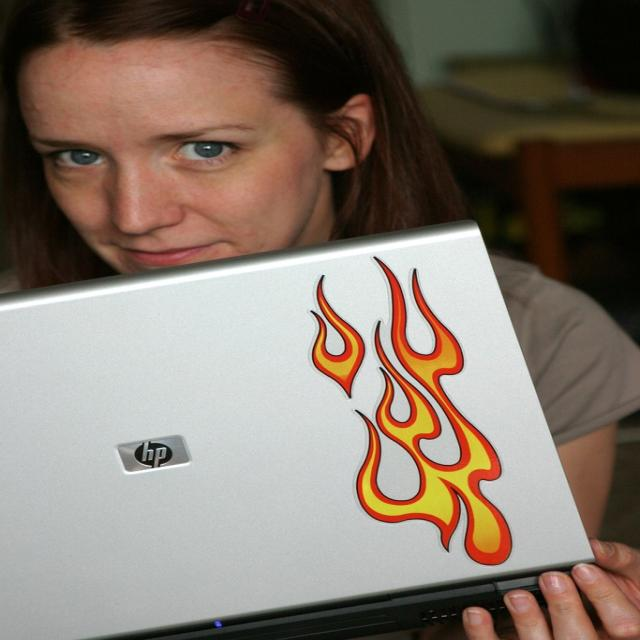HP: (112, 434, 194, 476)
